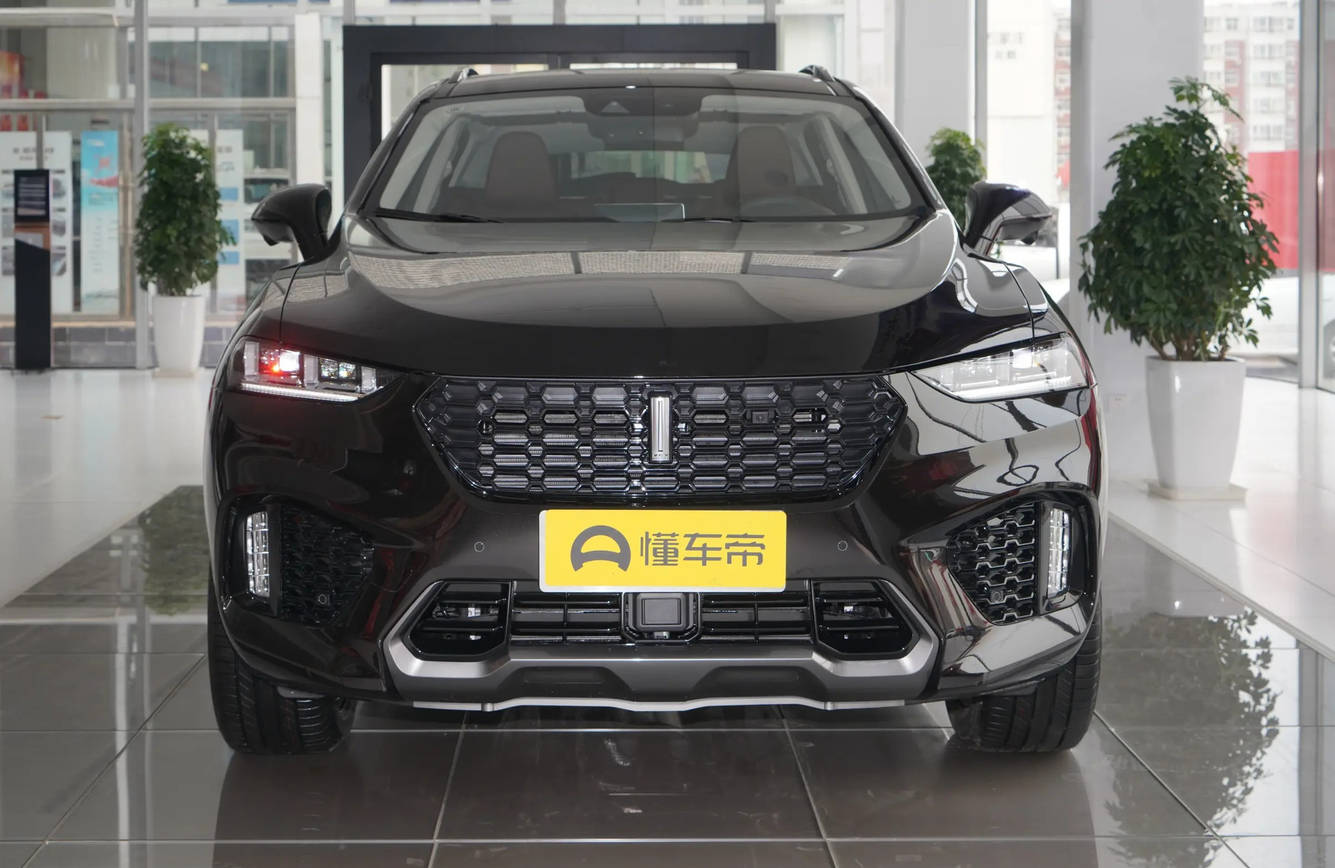WEY: (650, 394, 671, 463)
